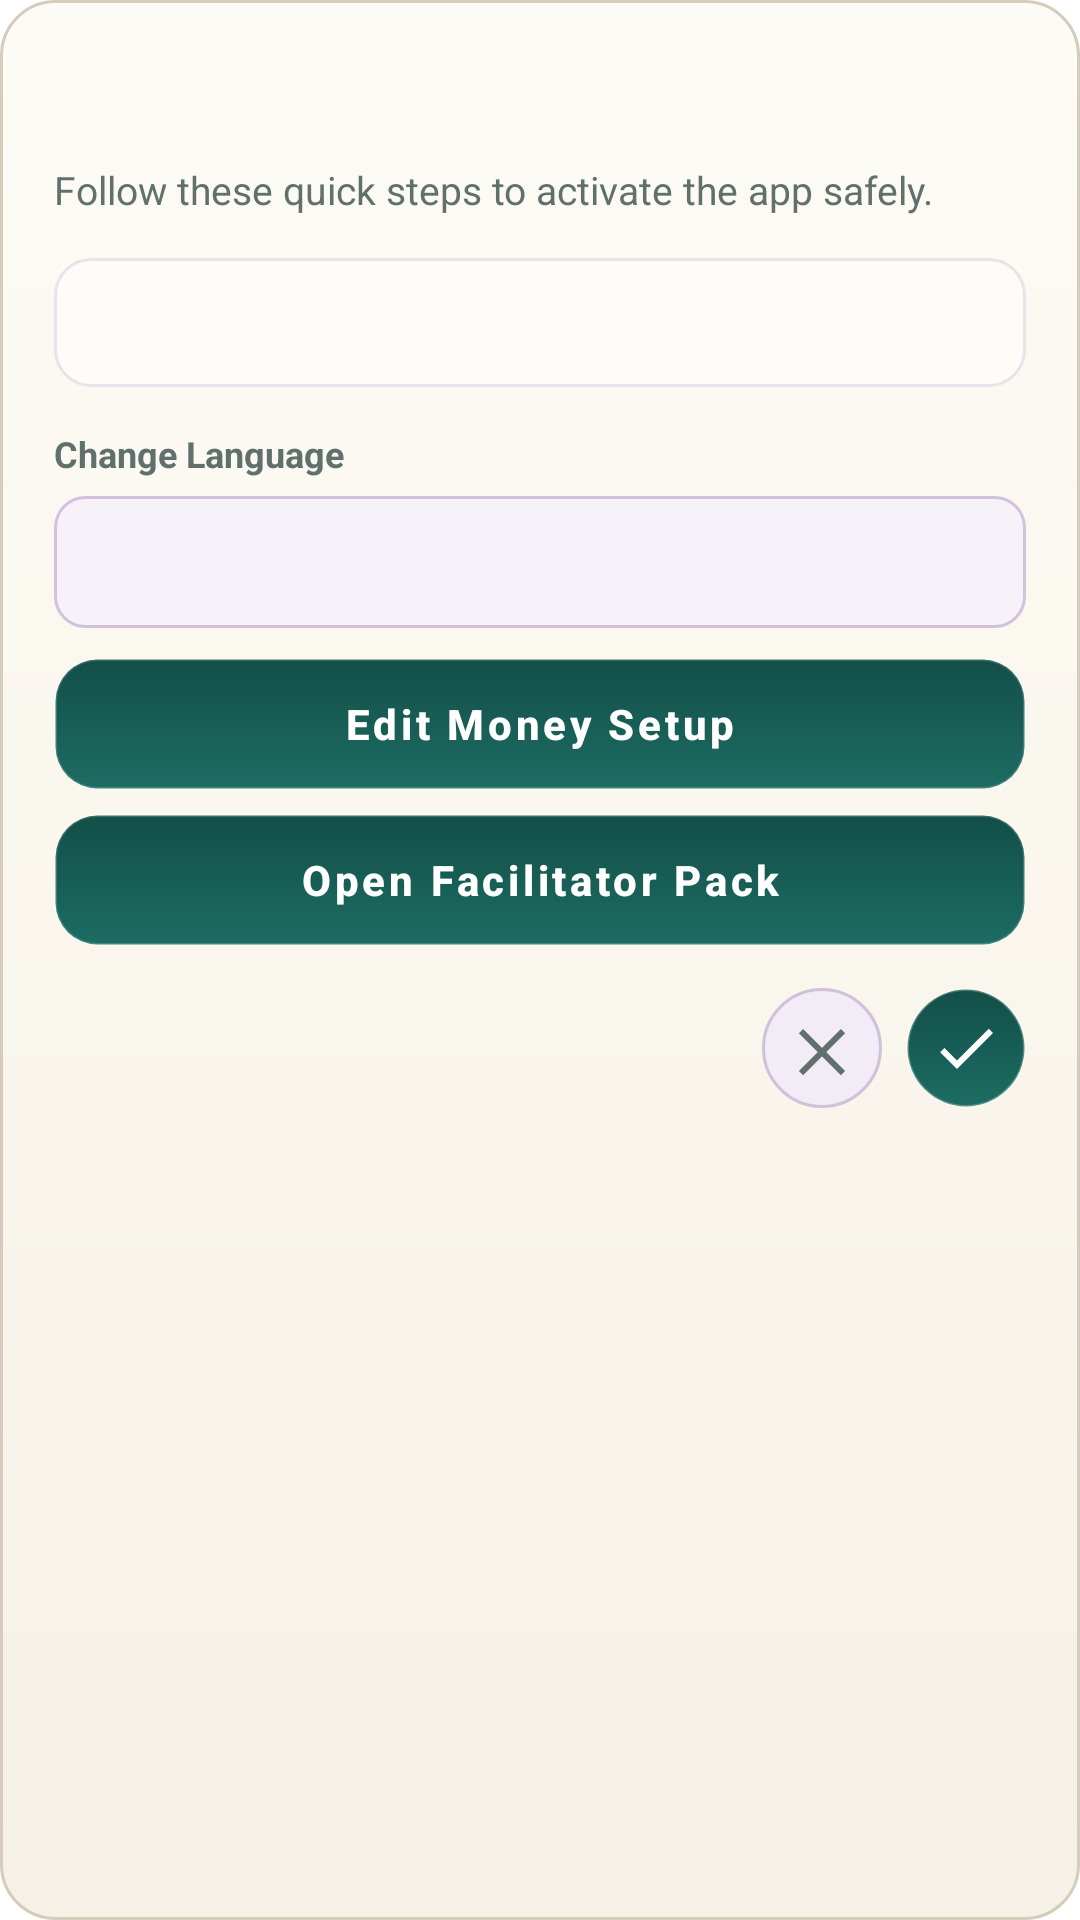

Icons on this 1080px x 1920px Android screen, each with the point to tap as (x=x, y=y):
Apply Language: (x=966, y=1048)
Close: (x=822, y=1048)
